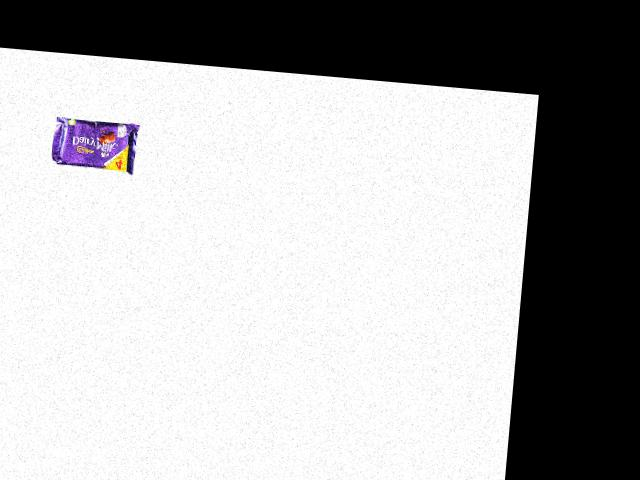chocolate: (47, 109, 150, 175)
